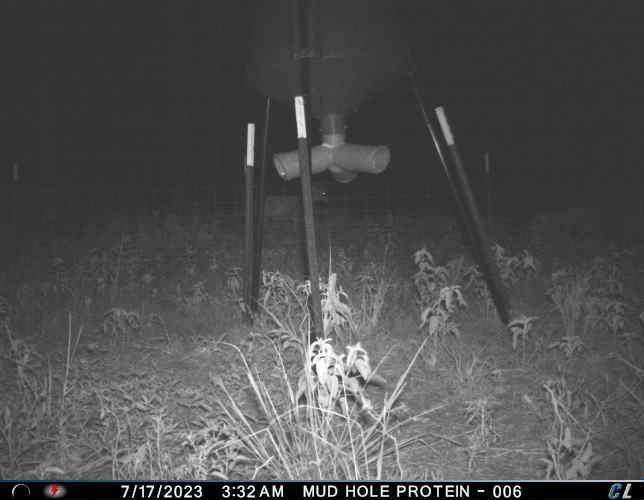Deer: (261, 183, 331, 230)
